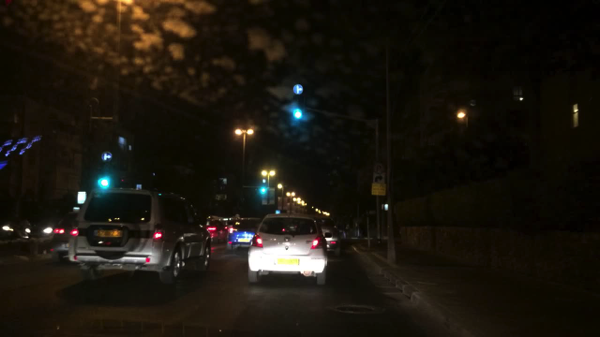car: (66, 189, 211, 284), (246, 215, 327, 286), (51, 208, 81, 261), (227, 218, 260, 253), (318, 221, 342, 257), (2, 218, 31, 237), (207, 218, 226, 247), (36, 219, 58, 236)
traffic light: (294, 103, 300, 120), (261, 183, 266, 195), (103, 174, 107, 188)
traffic sign: (372, 172, 386, 185), (371, 186, 386, 195), (372, 162, 385, 172), (293, 84, 303, 96), (101, 151, 111, 162)
